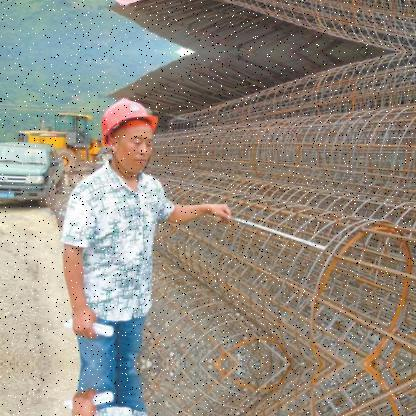helmet: (94, 93, 165, 176)
